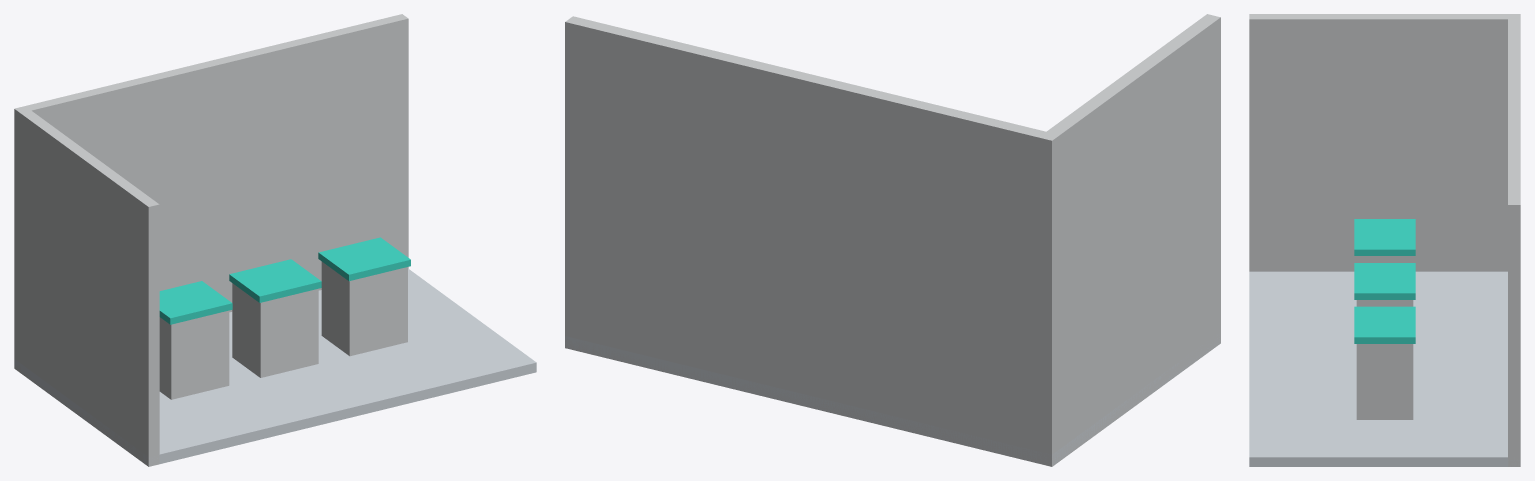
3 views of the same model, side by side, from view 1: azimuth 30°, elevation 25°; view 2: azimuth 150°, elevation 25°; view 3: azimuth 270°, elevation 25° (orthographic). The views are drawn at different scales.
Parts seen in each view (by area): view 1: Exhibition Booth Concept; view 2: Exhibition Booth Concept; view 3: Exhibition Booth Concept.
Part boxes in pixels (left/top/right/bottom): Exhibition Booth Concept: left=14, top=14, right=536, bottom=466; Exhibition Booth Concept: left=565, top=14, right=1220, bottom=466; Exhibition Booth Concept: left=1249, top=14, right=1520, bottom=466.
Size of the model in its own units: 5 by 3.2 by 3.
